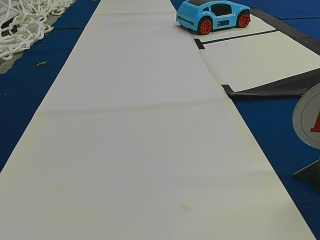car: (176, 2, 252, 34)
